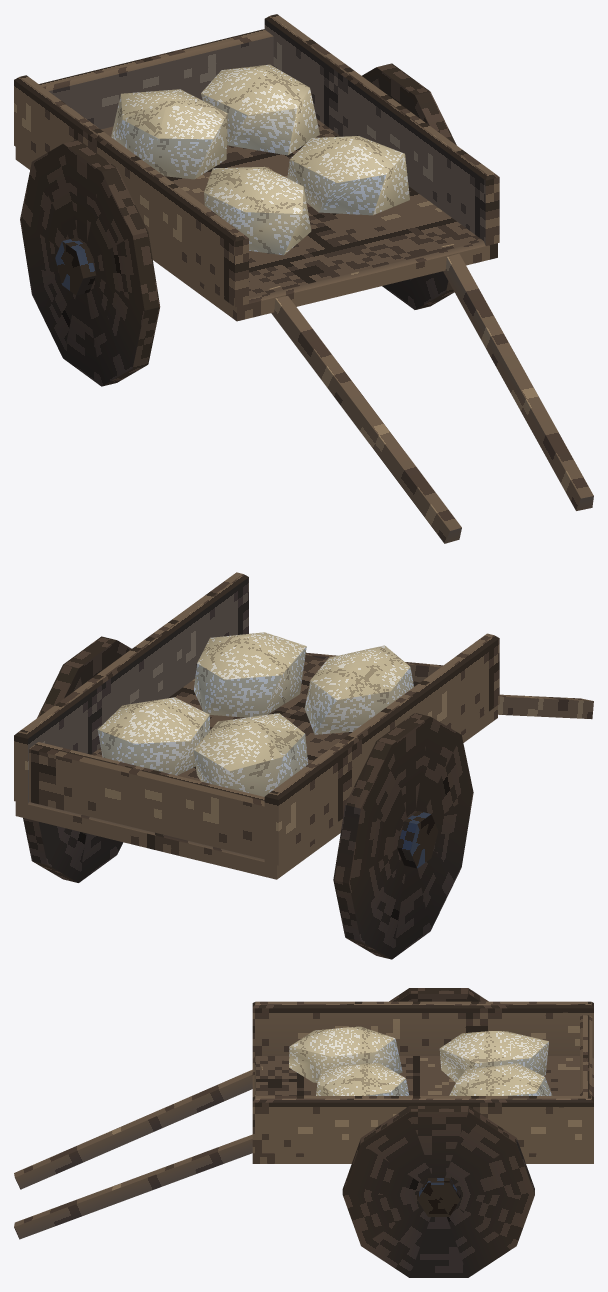
Rendered from mprop.cart__sacks.glb.
3 views of the same model, one above another, from view 1: azimuth 30°, elevation 25°; view 2: azimuth 150°, elevation 25°; view 3: azimuth 270°, elevation 25° (orthographic). The views are drawn at different scales.
Parts seen in each view (by area): view 1: kit_bed, kit_load, kit_wheels; view 2: kit_bed, kit_wheels, kit_load; view 3: kit_bed, kit_wheels, kit_load.
Part boxes in pixels (box(x1,y1,x2,y2)): kit_bed: box(14, 14, 593, 543); kit_load: box(111, 64, 409, 255); kit_wheels: box(20, 63, 456, 386); kit_bed: box(14, 572, 593, 879); kit_wheels: box(23, 636, 473, 959); kit_load: box(97, 632, 413, 796); kit_bed: box(14, 1001, 593, 1239); kit_wheels: box(342, 988, 534, 1277); kit_load: box(289, 1026, 552, 1095).
Bounding box in the file's own units: 2.04 × 1.2 × 3.74.
5 materials, 5 textured.
